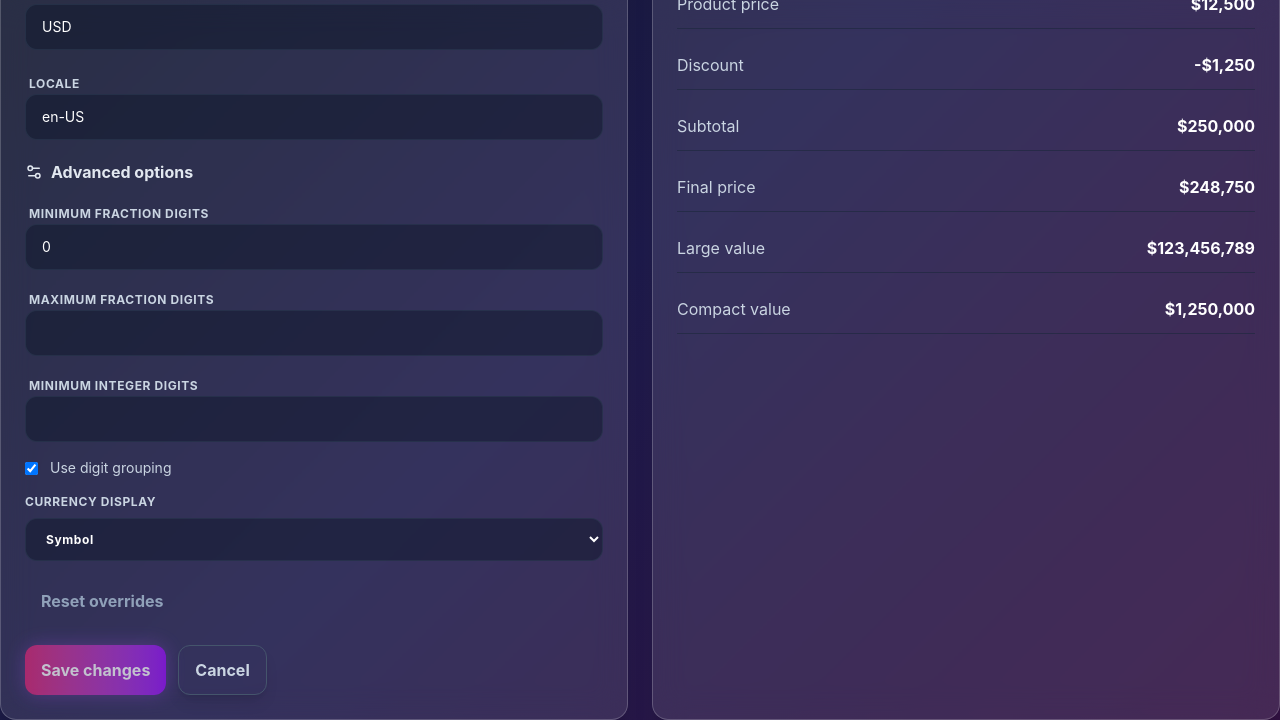
Test: CurrencySettingsPage › resets advanced overrides without changing currency fields
(page scrolled)
Expected: the field showing "USD" below "Currency code" is shown, [25,4,603,50]
What coordinates should you click on to do the following:
click the button "Reset overrides"
I would click on:
 (102, 601)
Its box is [25,577,180,625].
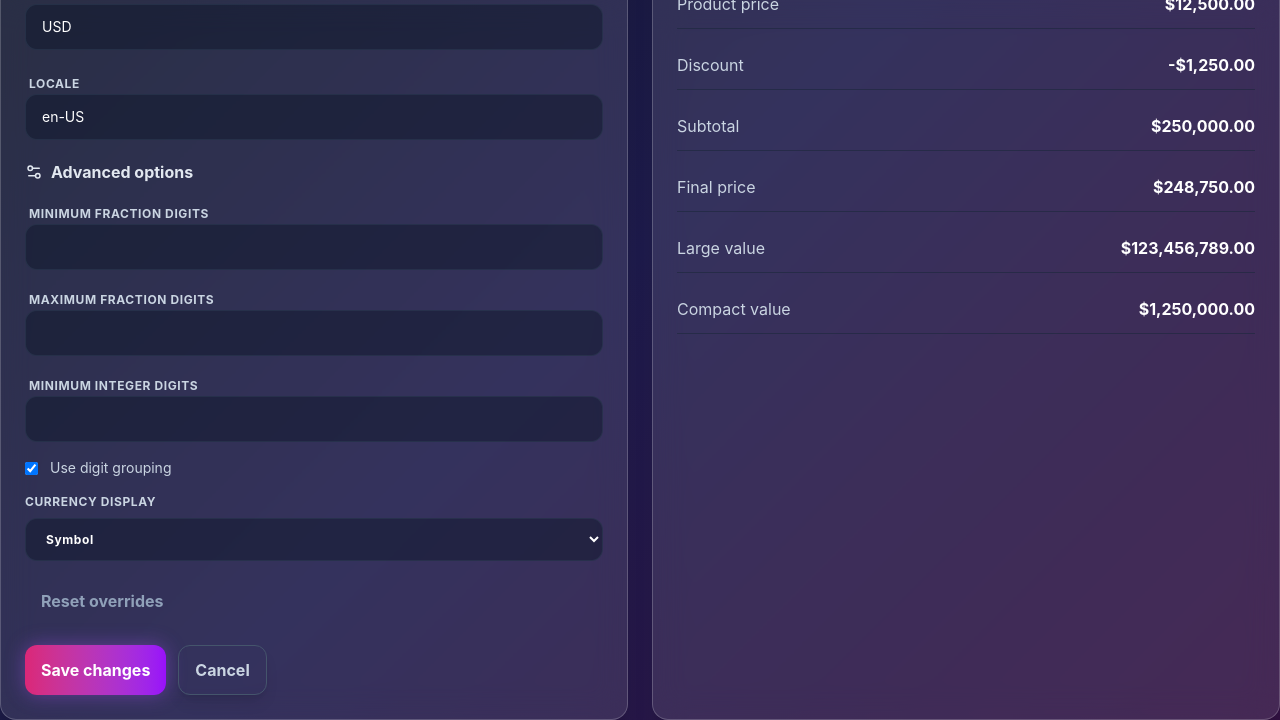
Expected: the field showing "USD" below "Currency code" is shown, [25,4,603,50]
Expected: the number field below "Minimum fraction digits" is not empty, [25,224,603,270]
